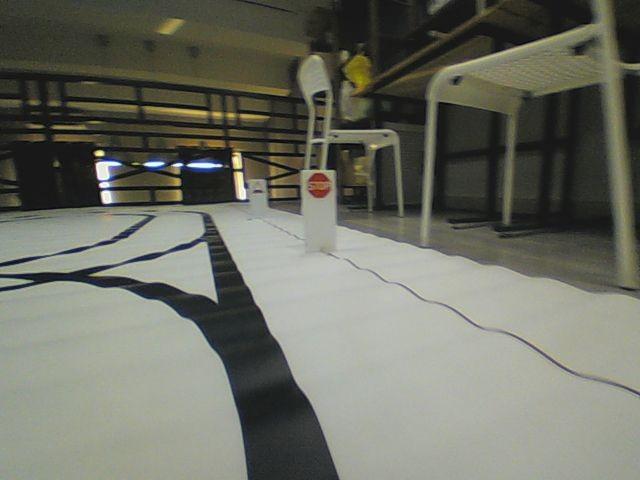Stop: (307, 172, 331, 198)
